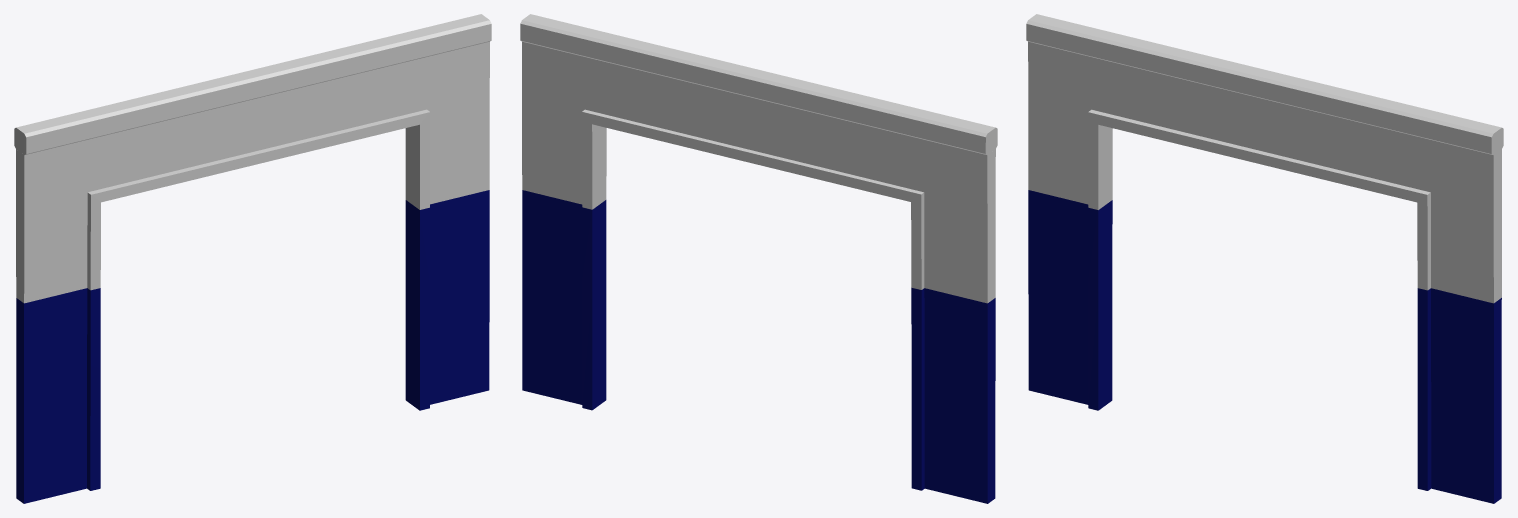
The model's file is wall_25.fbx.
3 views of the same model, side by side, from view 1: azimuth 30°, elevation 25°; view 2: azimuth 150°, elevation 25°; view 3: azimuth 330°, elevation 25° (orthographic).
Visible parts, largest first — view 1: WALL_4.009; view 2: WALL_4.009; view 3: WALL_4.009.
Boxes of the visible parts, <box> form: WALL_4.009: <box>14,14,491,503</box>; WALL_4.009: <box>520,14,997,503</box>; WALL_4.009: <box>1026,14,1503,503</box>.
Size of the model in its own units: 6.34 by 4.83 by 0.3452.
